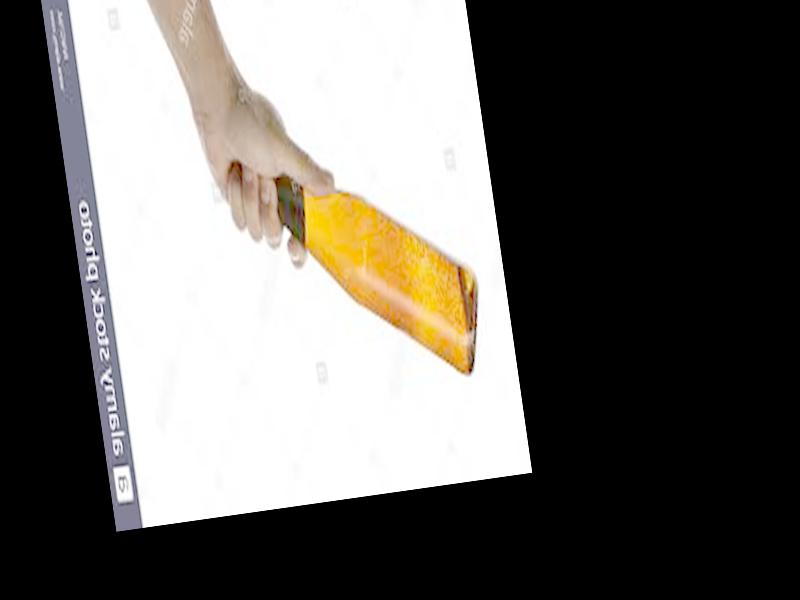Beer: (230, 134, 492, 404)
